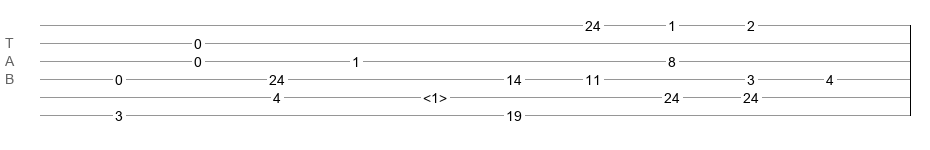0: (115, 72, 123, 82), (194, 36, 202, 46), (194, 54, 202, 64)
1: (352, 54, 360, 64), (668, 18, 676, 28)
11: (585, 72, 601, 82)
14: (506, 72, 522, 82)
19: (506, 108, 522, 118)
2: (747, 18, 755, 28)
24: (269, 72, 285, 82), (585, 18, 601, 28), (664, 90, 680, 100), (743, 90, 759, 100)
3: (115, 108, 123, 118), (747, 72, 755, 82)
4: (273, 90, 281, 100), (826, 72, 834, 82)
8: (668, 54, 676, 64)
harmonic: (423, 90, 447, 100)
